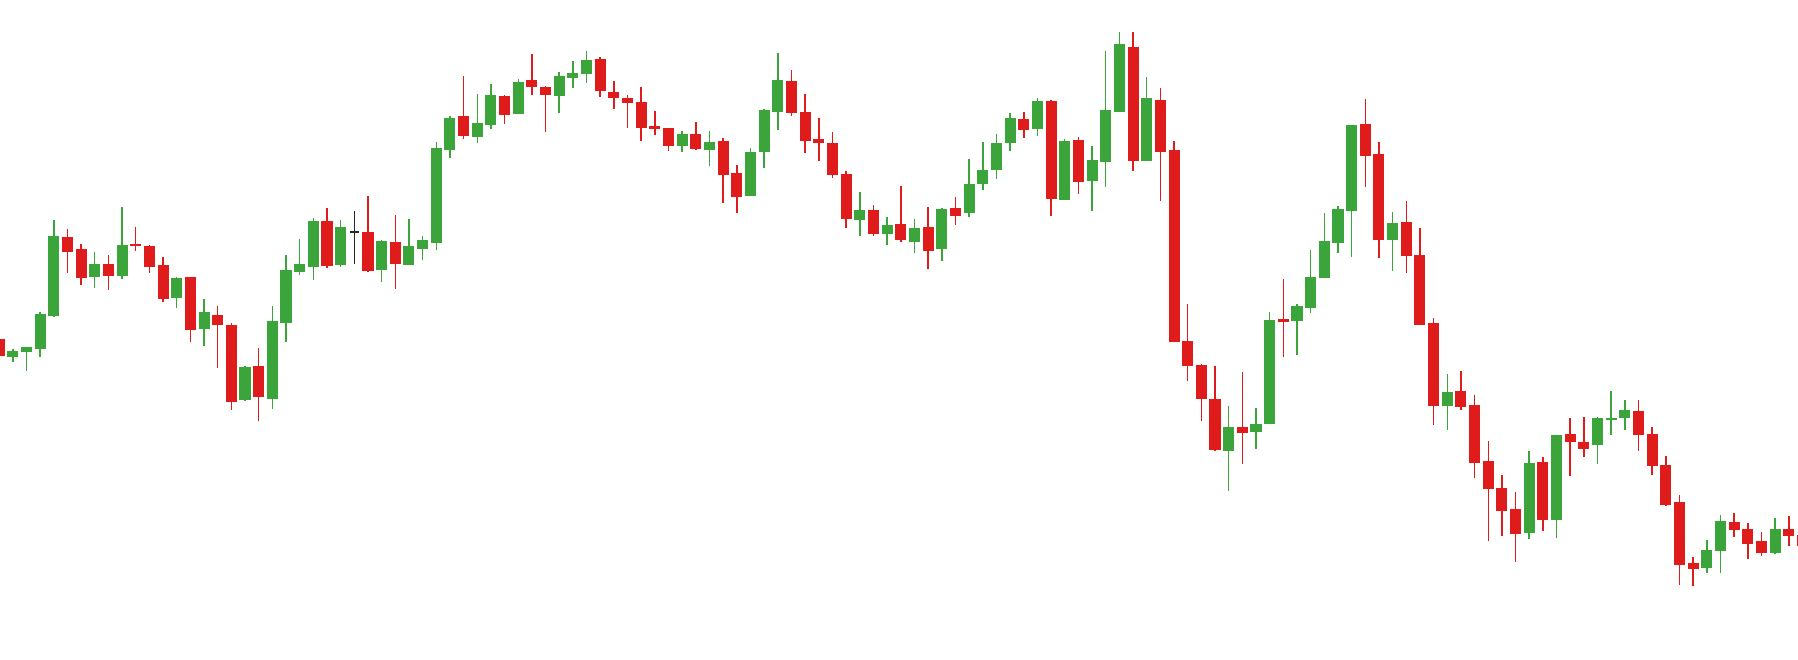sell: (1029, 33, 1140, 146)
